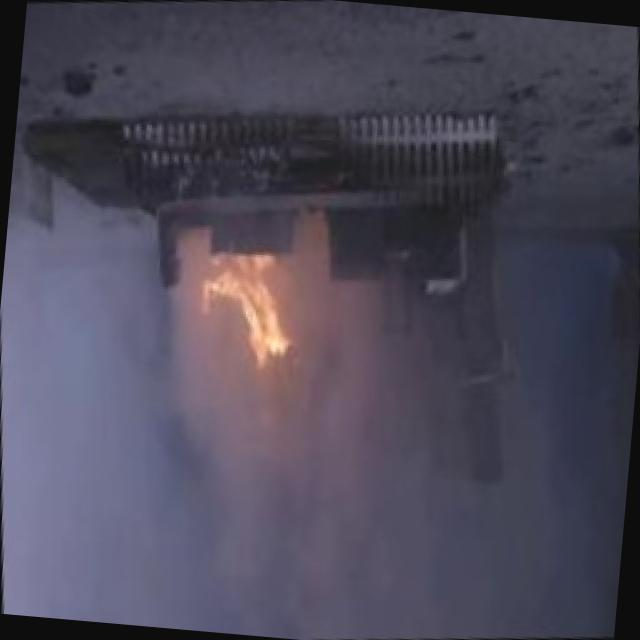fire: (158, 200, 333, 395)
smoke: (0, 332, 635, 640)
